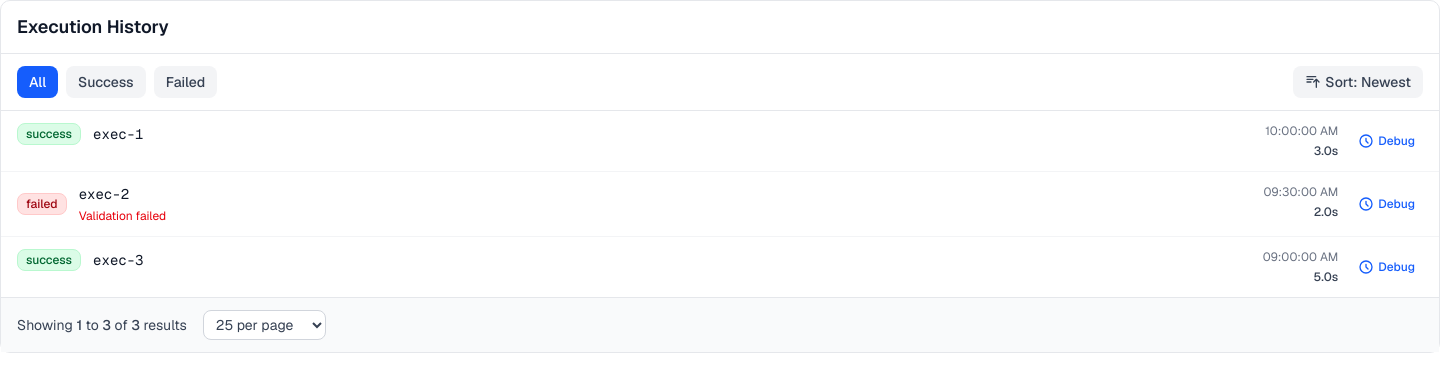
Test: ExecutionHistoryPanel › Status Filtering › filters to show only failed executions
The image size is (1440, 370).
Click the button "Failed". click: coordinates (185, 82)
box: x1=154 y1=66 x2=217 y2=98
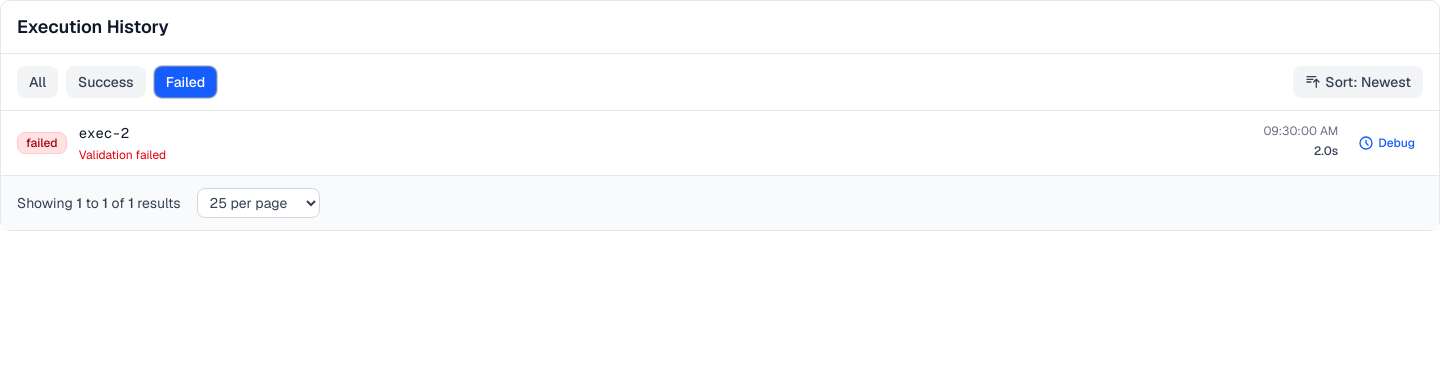
Check: the text "exec-2" is shown, box x1=79 y1=124 x2=129 y2=142
Check: the button "exec-1" is gone
Check: the button "exec-3" is gone
